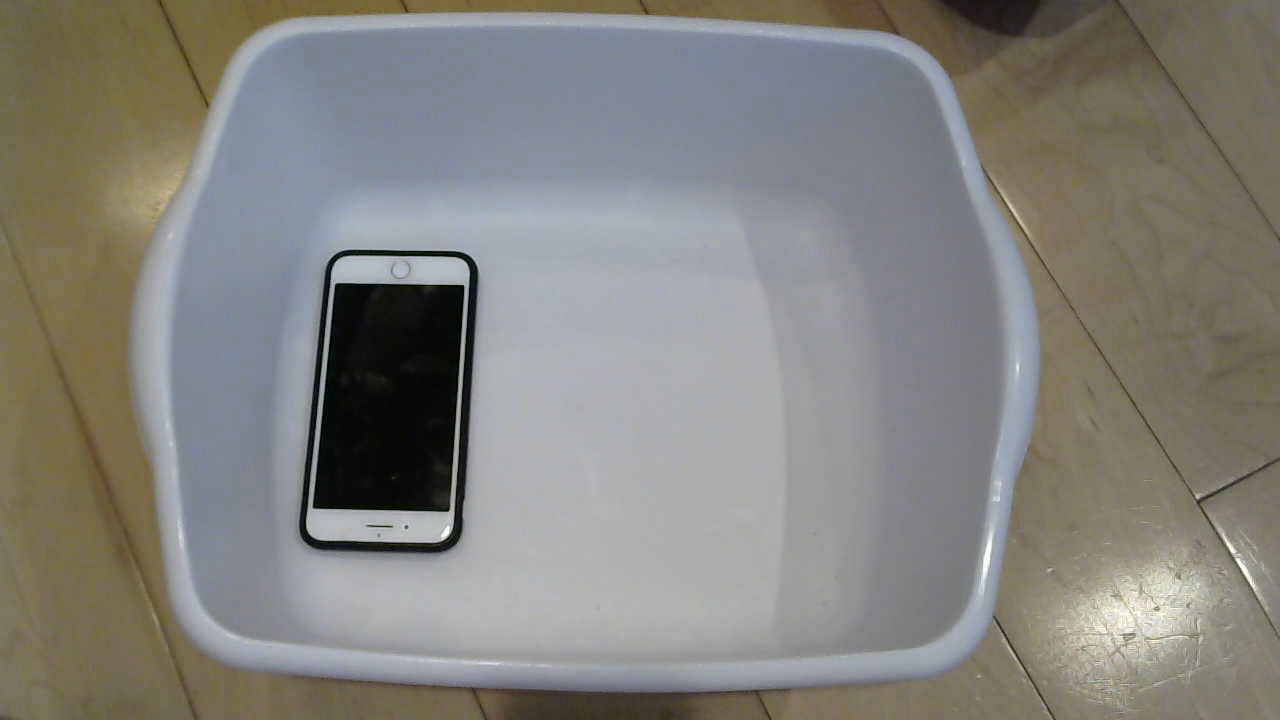phone: (294, 246, 501, 579)
